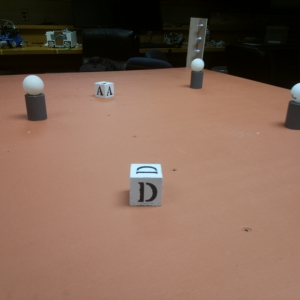blockA: (95, 81, 114, 98)
blockD: (127, 163, 166, 207)
corner: (186, 16, 206, 65)
obstacle: (23, 76, 47, 119), (283, 79, 300, 133), (190, 56, 205, 88)
